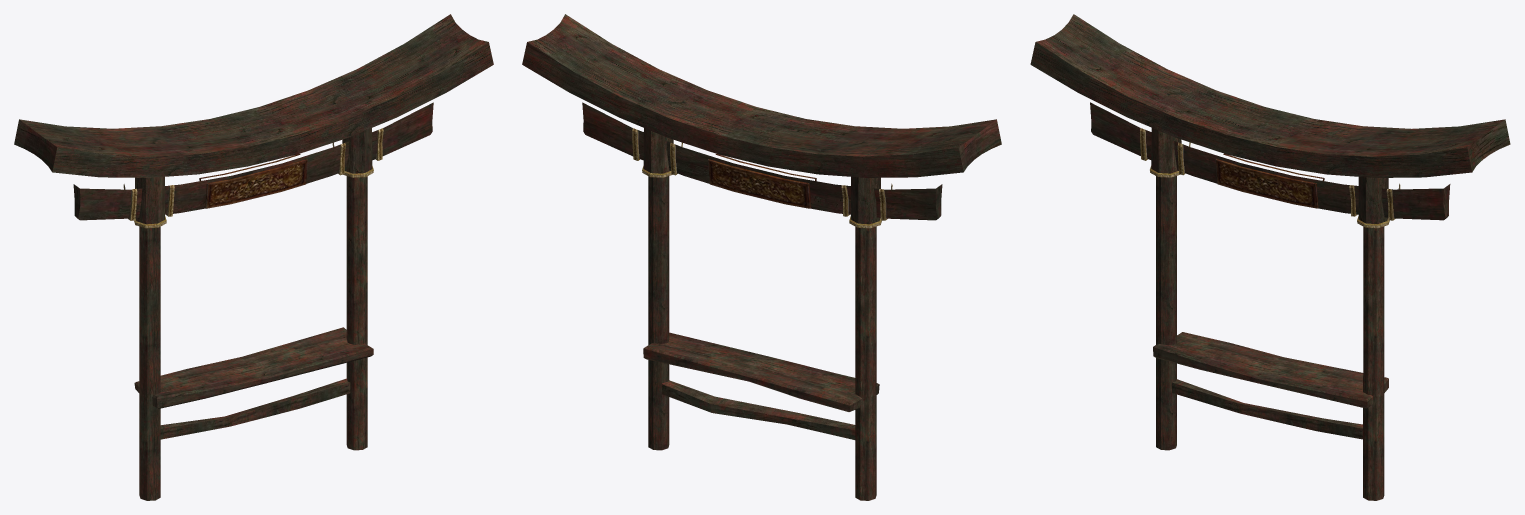
The model's file is TW2_9_ADDONS_03_3-transformed.glb.
3 views of the same model, side by side, from view 1: azimuth 30°, elevation 25°; view 2: azimuth 150°, elevation 25°; view 3: azimuth 330°, elevation 25° (orthographic).
Parts seen in each view (by area): view 1: default; view 2: default; view 3: default.
Part boxes in pixels (x1,y1,x2,y2): default: (14,14,493,500); default: (522,14,1001,500); default: (1030,14,1510,500).
Size of the model in its own units: 3.68 by 3.11 by 0.5518.
Materials: 3 (3 with a texture image).
